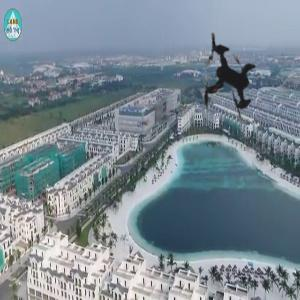drone: (161, 12, 295, 146)
